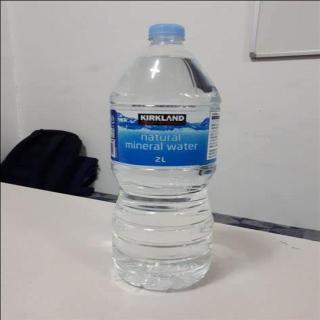Anorganik: (107, 22, 222, 290)
